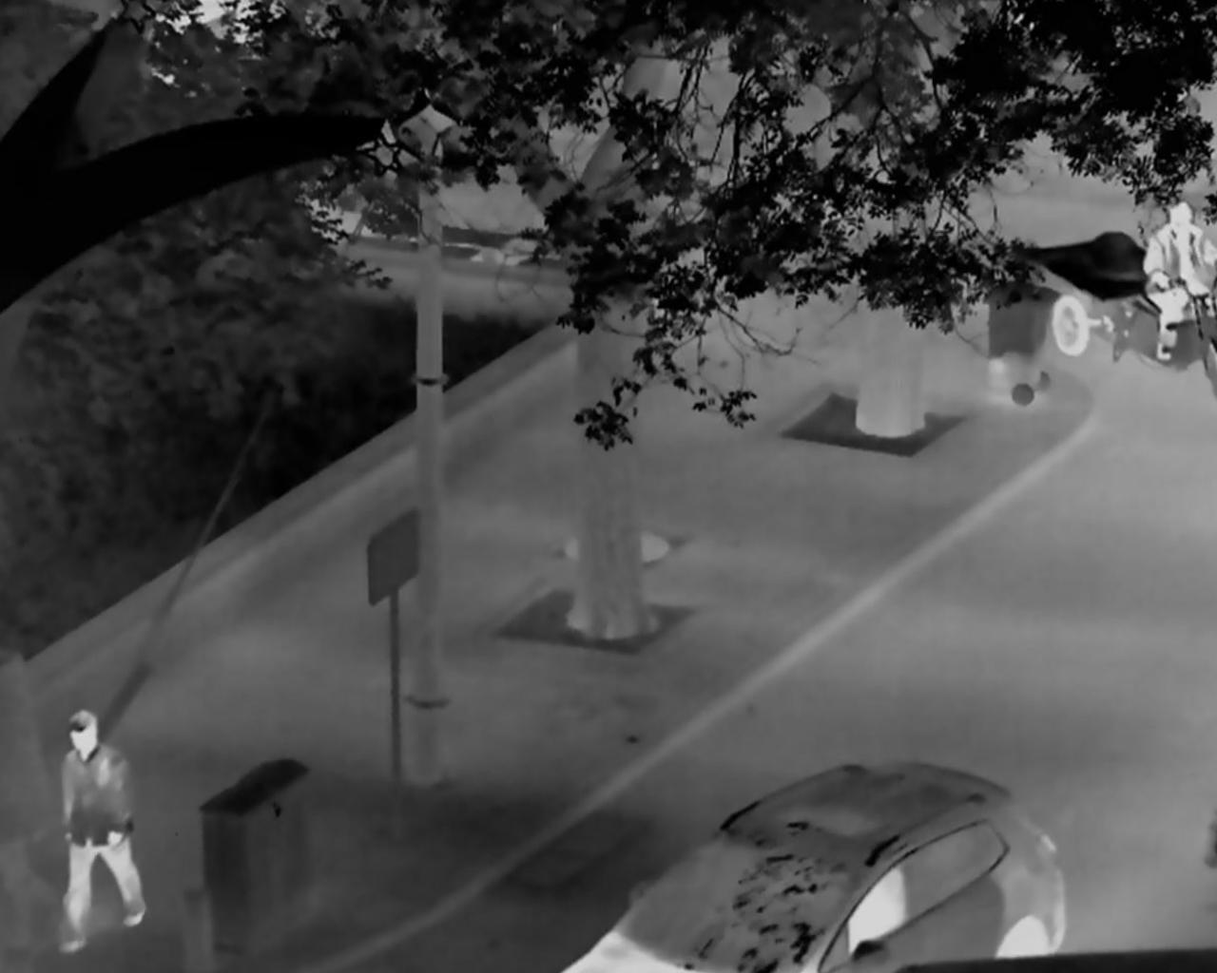person: (56, 708, 150, 953), (1143, 200, 1217, 366)
